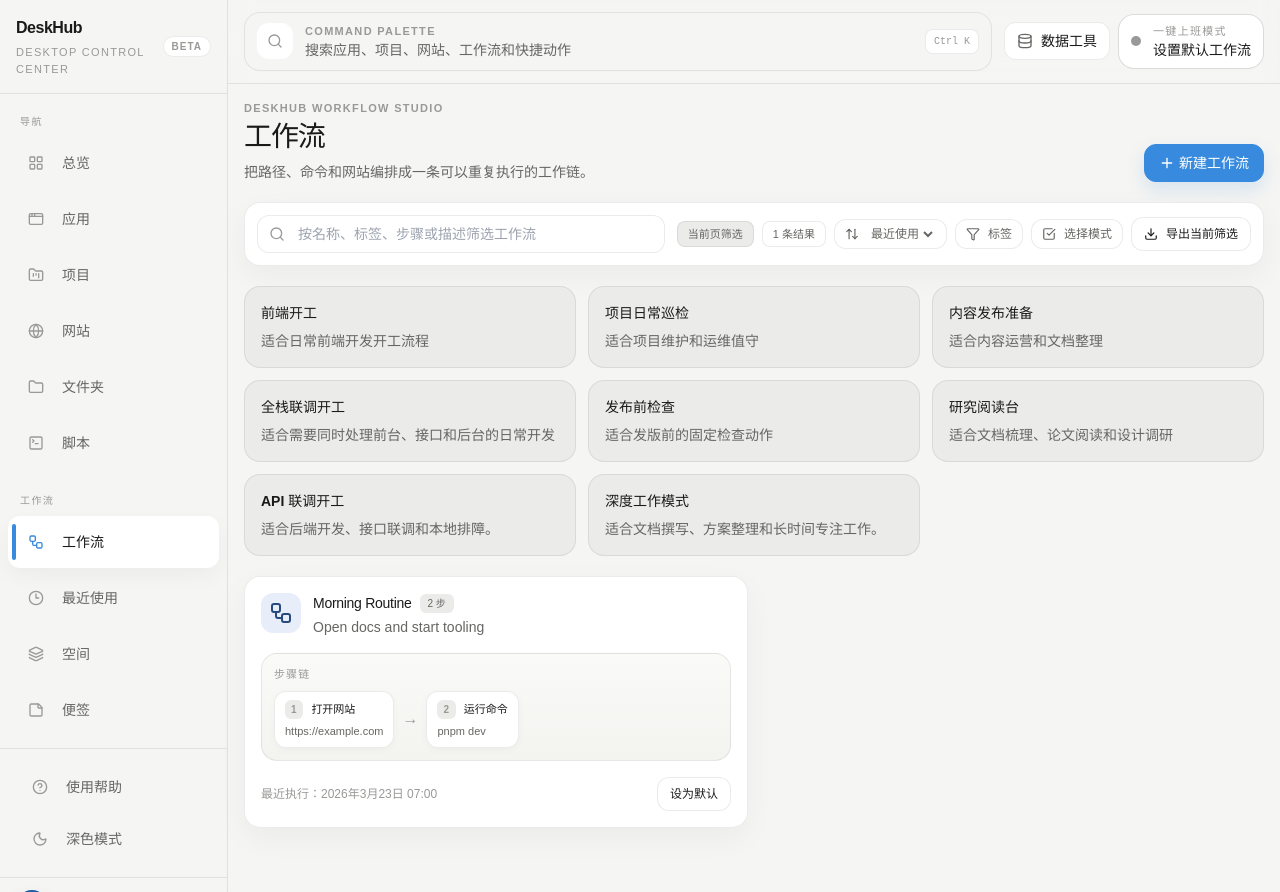
Test: AppRouter › sets a default workflow from the workflow page and updates the topbar state
This screenshot has width=1280, height=892.
Expected: the heading "工作流" is shown, left=244, top=121, right=325, bottom=152
Expected: the heading "Morning Routine" is shown, left=313, top=593, right=412, bottom=613
Click the button "设为默认". click: (694, 794)
box: left=657, top=777, right=731, bottom=811
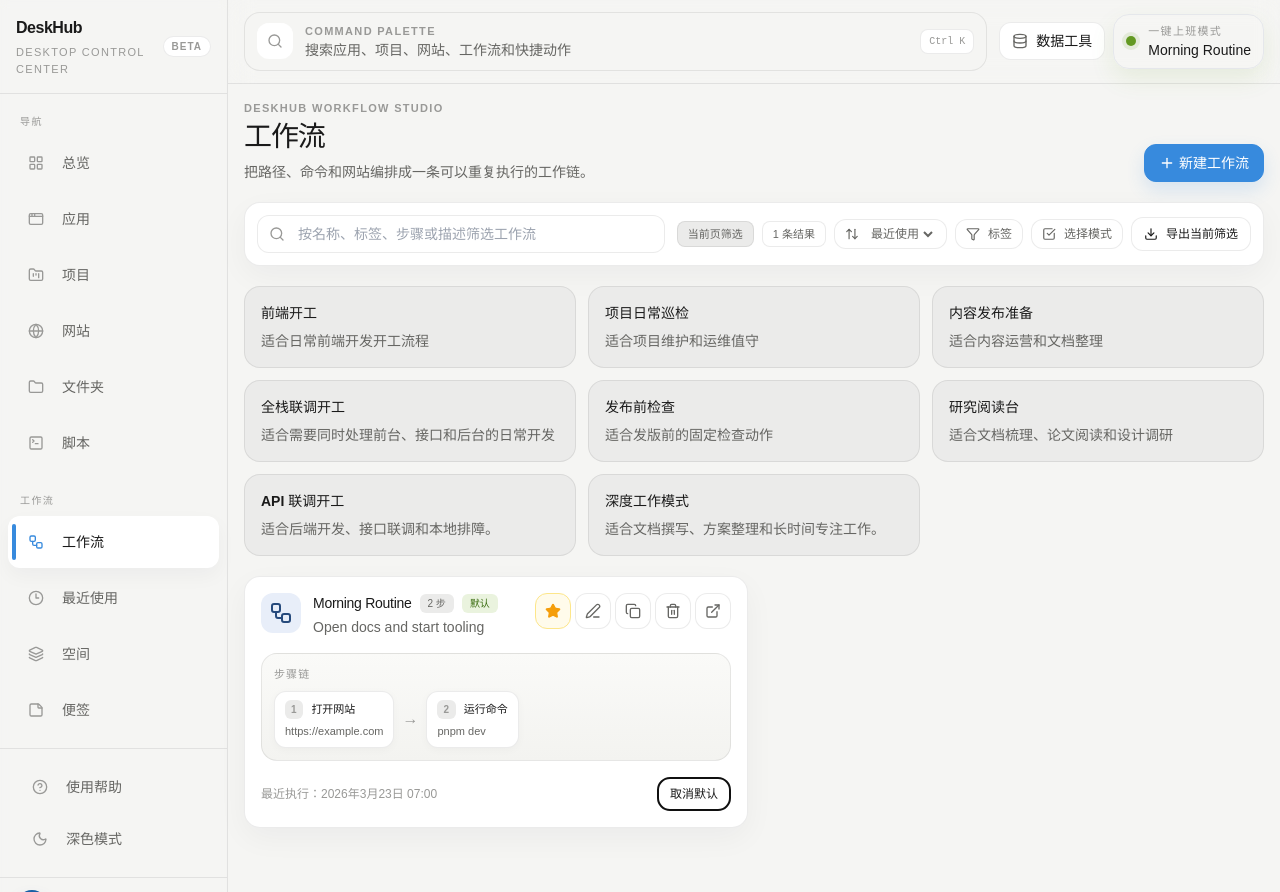
Now the button "一键上班模式 Morning Routine" is shown, box left=1113, top=14, right=1264, bottom=68
